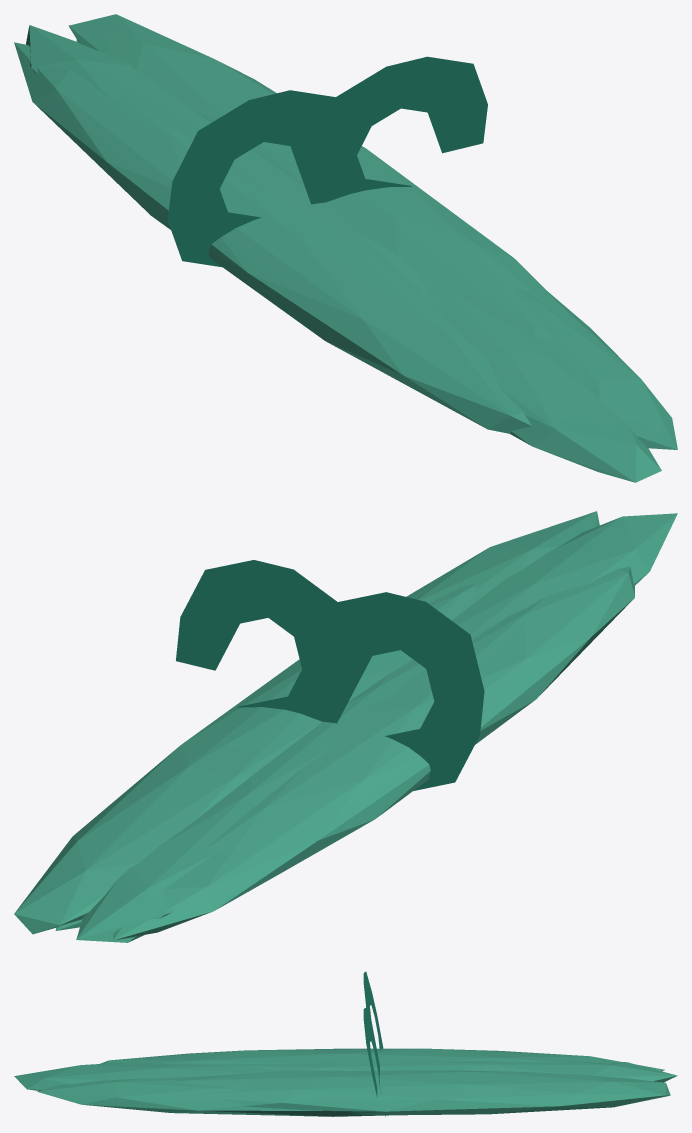
Rendered from pteris-ensiformis.glb.
3 views of the same model, one above another, from view 1: azimuth 30°, elevation 25°; view 2: azimuth 150°, elevation 25°; view 3: azimuth 270°, elevation 25° (orthographic). The views are drawn at different scales.
Visible parts, largest first — view 1: frond3, frond0, frond2, fiddle-1, fiddle1, frond4, frond1; view 2: frond3, frond0, fiddle-1, fiddle1, frond4, frond2, frond1; view 3: frond0, frond1, frond3, frond4, frond2, fiddle-1, fiddle1.
Part boxes in pixels (x1,y1,x2,y2): frond3: (14, 42, 531, 433); frond0: (68, 14, 588, 340); frond2: (416, 272, 661, 482); fiddle-1: (167, 90, 348, 267); fiddle1: (305, 56, 487, 204); frond4: (26, 25, 457, 329); frond1: (484, 286, 677, 449); frond3: (113, 566, 634, 940); frond0: (14, 582, 477, 934); fiddle-1: (315, 592, 484, 790); fiddle1: (176, 560, 351, 723); frond4: (76, 618, 504, 942); frond2: (452, 513, 677, 635); frond1: (406, 511, 599, 619); frond0: (172, 1070, 670, 1115); frond1: (37, 1075, 388, 1116); frond3: (100, 1048, 664, 1071); frond4: (207, 1060, 677, 1082); frond2: (14, 1062, 280, 1090); fiddle-1: (363, 971, 383, 1051); fiddle1: (363, 1007, 385, 1116).
Bounding box in the file's own units: 0.184 × 0.1057 × 0.6212.
